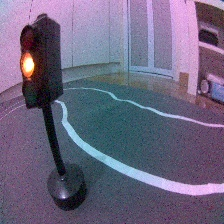amber: (18, 13, 89, 212)
